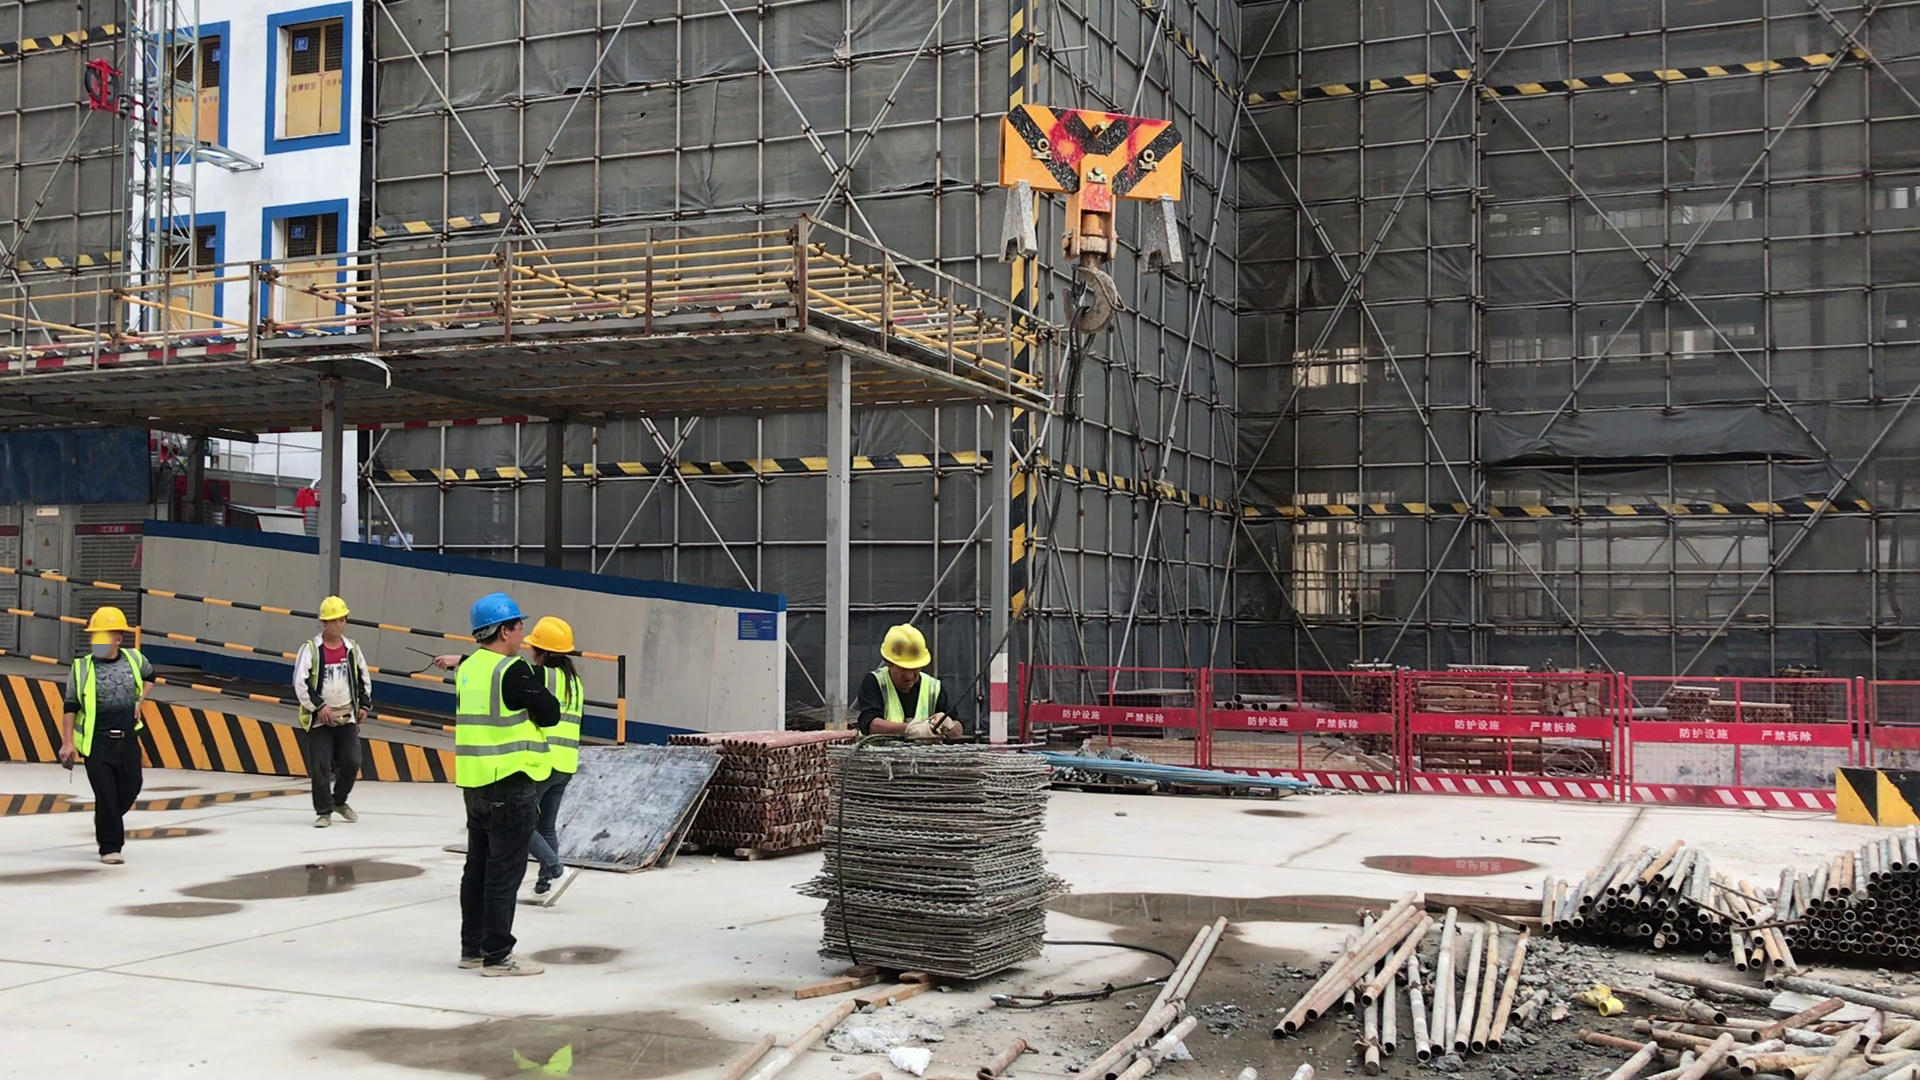fence: (1015, 657, 1920, 823)
helmet: (468, 594, 528, 631), (881, 624, 933, 666), (525, 618, 575, 653), (83, 608, 132, 636), (315, 596, 350, 624)
hook: (991, 99, 1189, 339)
person: (441, 594, 555, 983), (62, 608, 163, 863), (292, 594, 382, 832), (532, 616, 584, 908), (854, 623, 967, 743)
scaffold: (1546, 830, 1917, 974), (1377, 667, 1824, 729), (672, 726, 829, 859)
vest: (455, 647, 551, 790), (75, 647, 147, 754), (870, 667, 940, 732)
